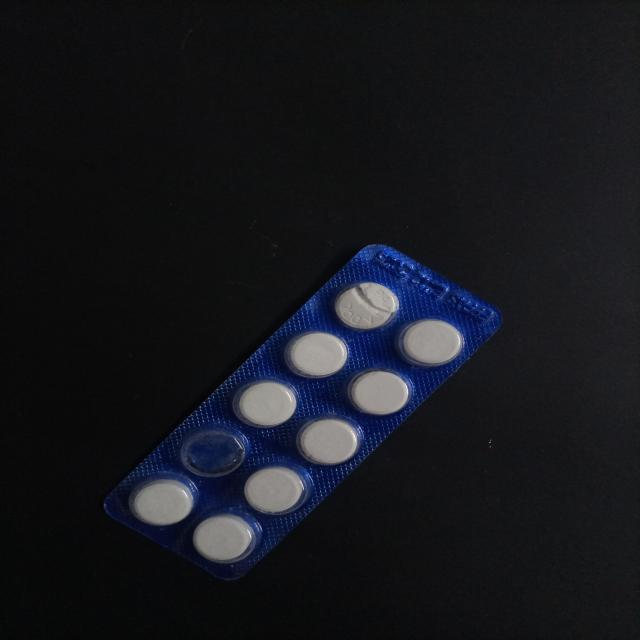defect: (176, 425, 250, 479), (330, 279, 400, 332)
